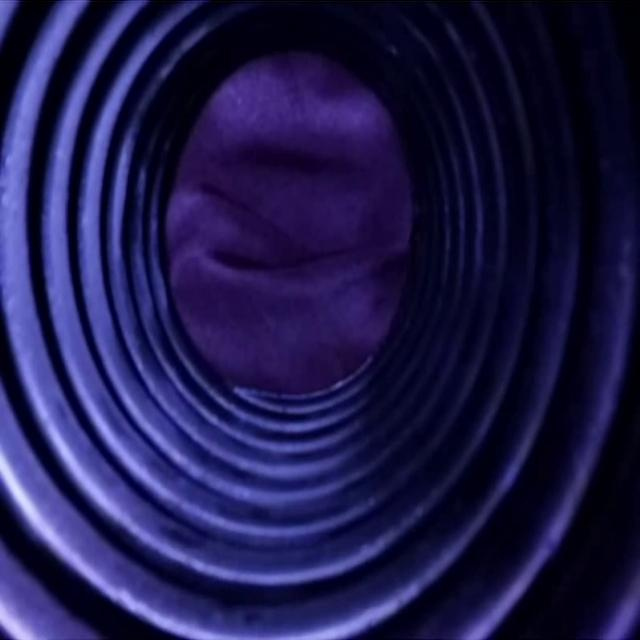block: (168, 53, 407, 389)
